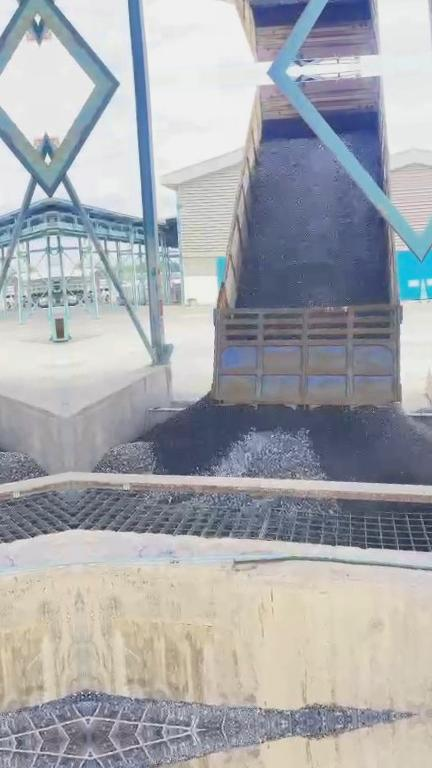gravel: (237, 137, 390, 307), (145, 397, 432, 484), (85, 691, 403, 737), (210, 428, 326, 479), (153, 493, 337, 513), (95, 441, 161, 474), (341, 129, 380, 183)
